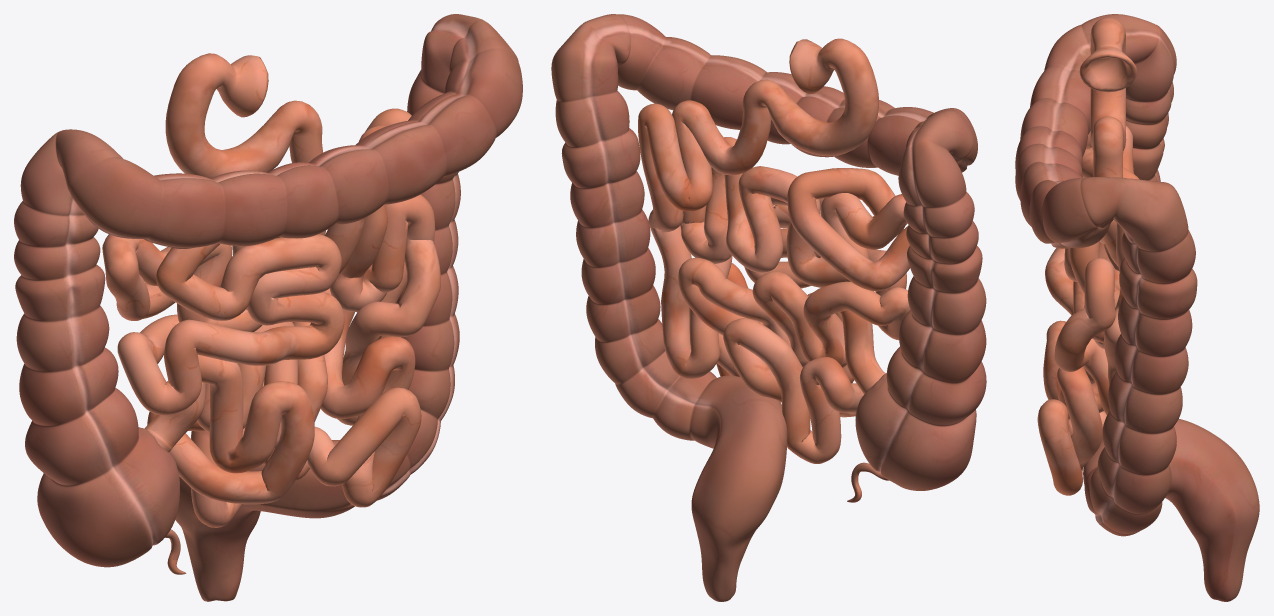
3 renders of one model, left to right at view 1: azimuth 30°, elevation 25°; view 2: azimuth 150°, elevation 25°; view 3: azimuth 270°, elevation 25°, orthographic. The views are drawn at different scales.
Visible parts, largest first — view 1: Tjocktarm, Tunntarm; view 2: Tjocktarm, Tunntarm; view 3: Tjocktarm, Tunntarm.
Boxes of the visible parts, bbox=[...] form: Tjocktarm: bbox=[14, 14, 522, 601]; Tunntarm: bbox=[102, 53, 440, 527]; Tjocktarm: bbox=[551, 14, 986, 601]; Tunntarm: bbox=[638, 38, 910, 463]; Tjocktarm: bbox=[1015, 14, 1259, 601]; Tunntarm: bbox=[1037, 17, 1139, 495].
Bounding box in the file's own units: 1.51 × 1.84 × 0.7469.
Materials: 2 (2 with a texture image).
